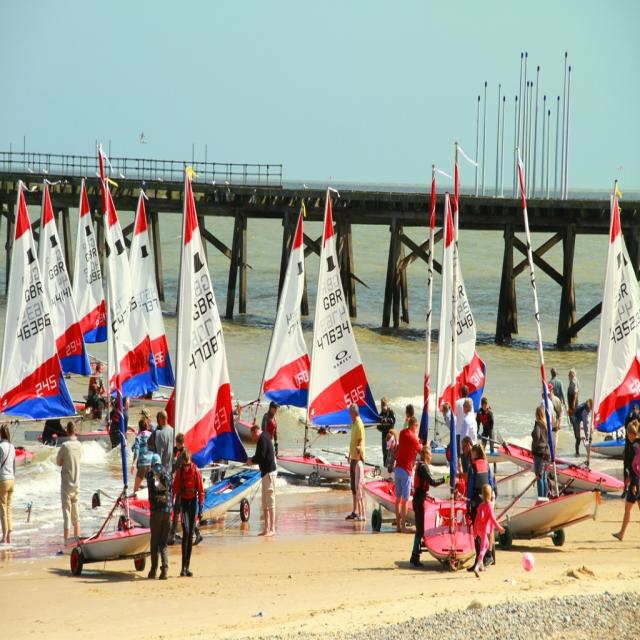Boat: (360, 143, 640, 562), (122, 165, 269, 537), (50, 142, 164, 578), (0, 176, 113, 462), (274, 182, 379, 489), (35, 170, 114, 432), (232, 202, 316, 448), (127, 192, 178, 409), (69, 183, 113, 379)
